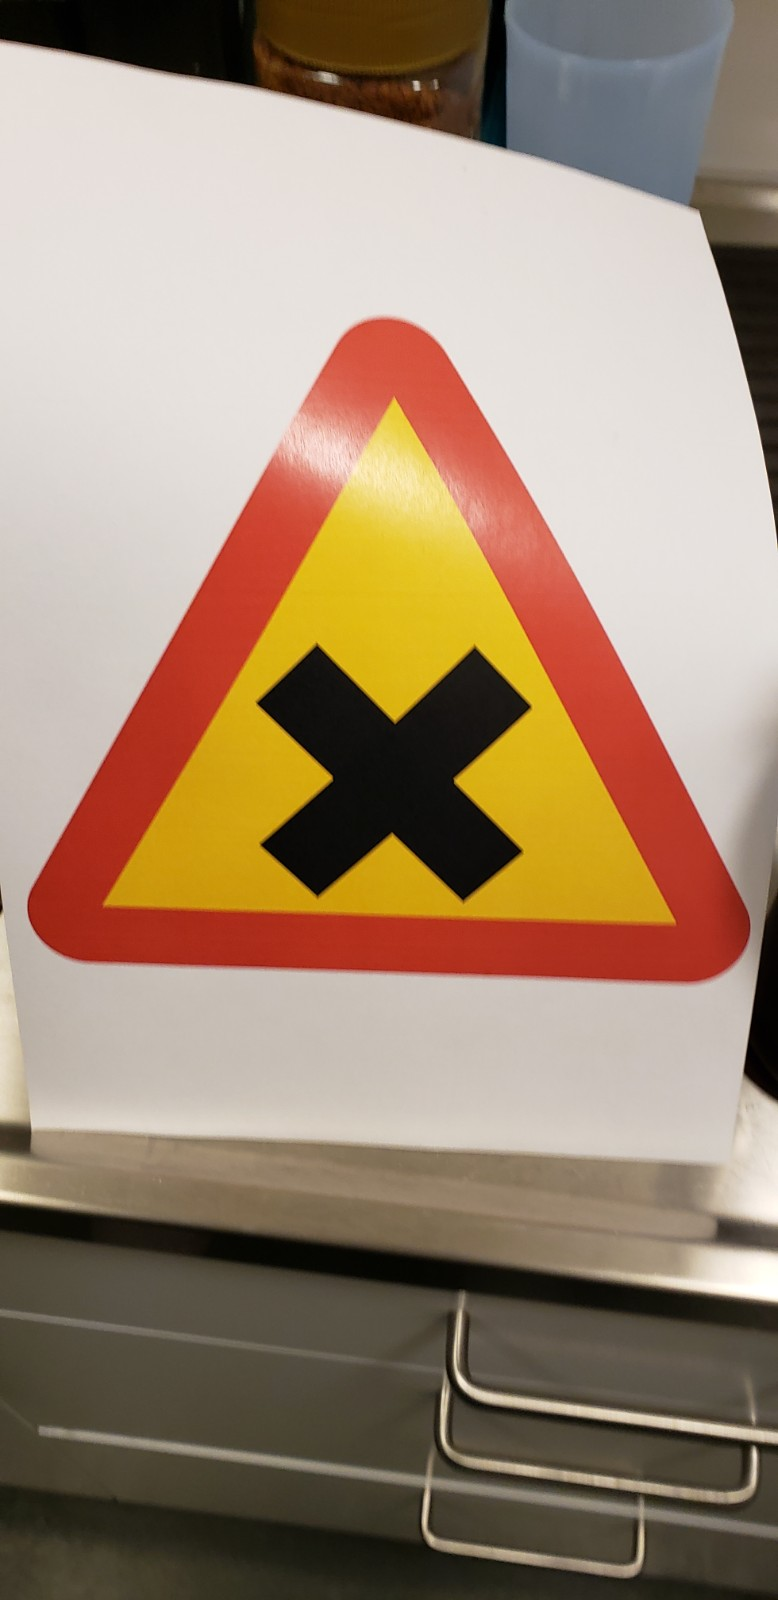junction: (6, 288, 771, 1031)
